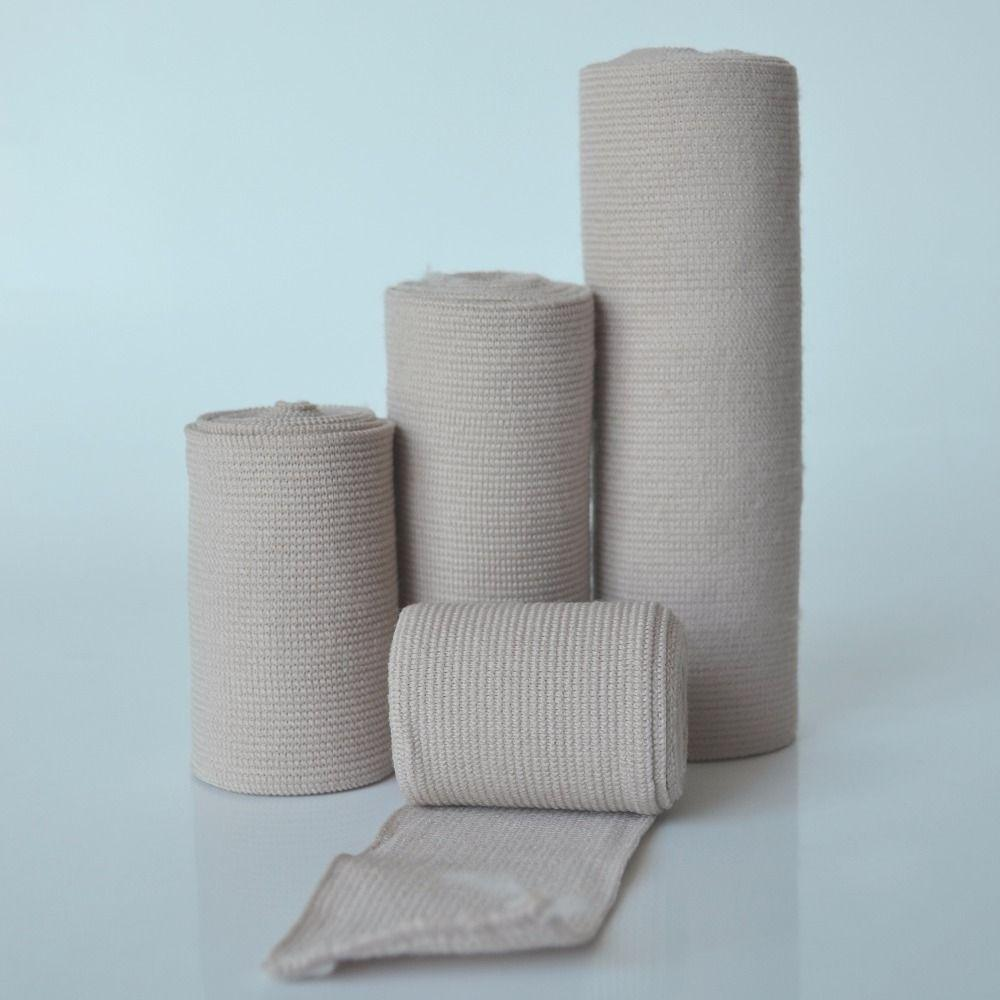bandage: (266, 600, 690, 993), (574, 46, 800, 769), (176, 402, 399, 798), (384, 268, 603, 611)
